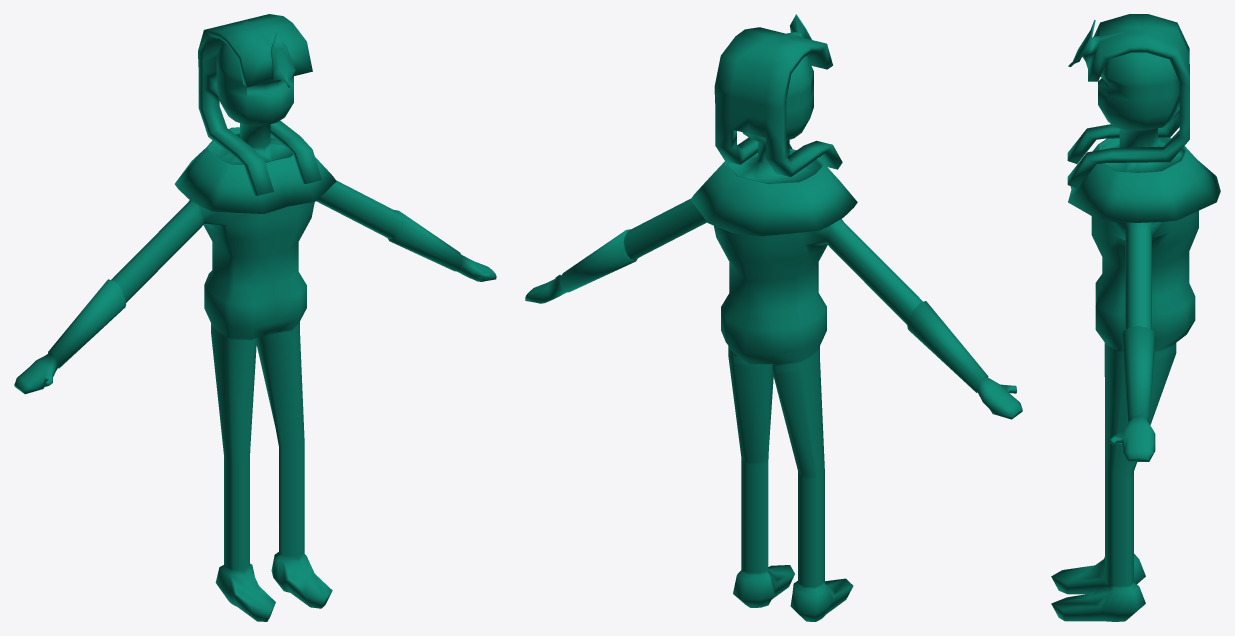
The model's file is Gummy Mummy.obj.
3 views of the same model, side by side, from view 1: azimuth 30°, elevation 25°; view 2: azimuth 150°, elevation 25°; view 3: azimuth 270°, elevation 25° (orthographic). The views are drawn at different scales.
Visible parts, largest first — view 1: Gummy_Mummy; view 2: Gummy_Mummy; view 3: Gummy_Mummy.
Boxes of the visible parts, box(x1,y1,x2,y2) form: Gummy_Mummy: box(14, 14, 496, 621); Gummy_Mummy: box(525, 14, 1022, 621); Gummy_Mummy: box(1051, 14, 1220, 621).
Size of the model in its own units: 184 by 211 by 55.6.
